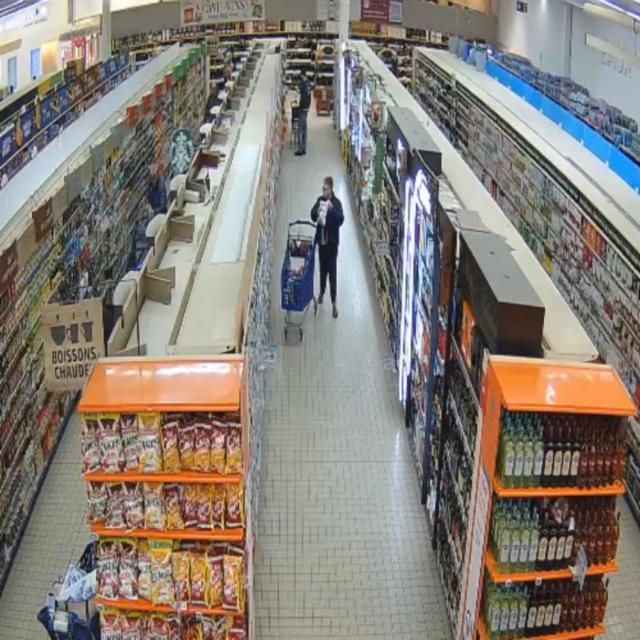article: (317, 200, 330, 227)
hands: (148, 205, 154, 216), (328, 200, 333, 210)
person: (311, 177, 344, 317), (296, 76, 311, 155), (147, 163, 167, 215)
